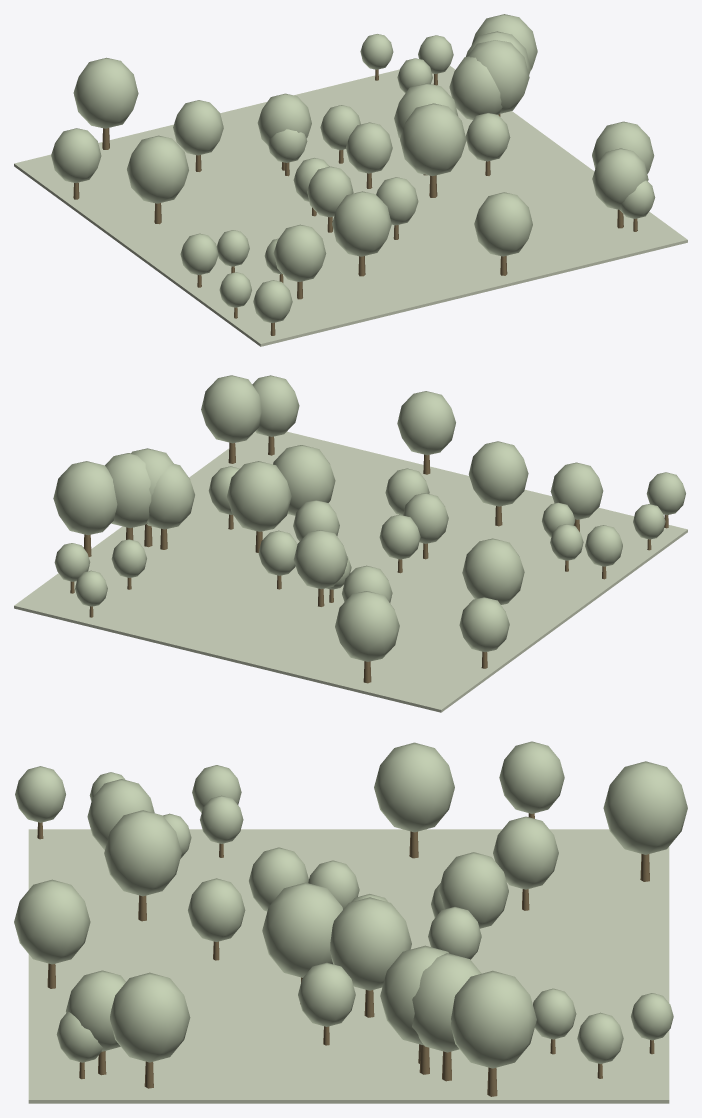
3 views of the same model, one above another, from view 1: azimuth 30°, elevation 25°; view 2: azimuth 150°, elevation 25°; view 3: azimuth 270°, elevation 25° (orthographic). The views are drawn at different scales.
Parts seen in each view (by area): view 1: terrain, lod-near-22, lod-near-15, lod-near-23, lod-near-7, lod-near-12, lod-near-10, lod-near-3, lod-near-1, lod-near-31, lod-near-17, lod-near-24 (+20 smaller); view 2: terrain, lod-near-29, lod-near-15, lod-near-27, lod-near-5, lod-near-23, lod-near-7, lod-near-12, lod-near-22, lod-near-18, lod-near-20, lod-near-1 (+19 smaller); view 3: terrain, lod-near-29, lod-near-15, lod-near-5, lod-near-23, lod-near-22, lod-near-27, lod-near-7, lod-near-12, lod-near-18, lod-near-20, lod-near-17 (+17 smaller).
Boxes of the visible parts, x1,y1,x2,y2 form: terrain: [14, 65, 687, 346]; lod-near-22: [400, 103, 466, 176]; lod-near-15: [73, 57, 138, 128]; lod-near-23: [127, 135, 188, 203]; lod-near-7: [332, 191, 391, 256]; lod-near-12: [474, 192, 532, 256]; lod-near-10: [468, 40, 529, 113]; lod-near-3: [592, 148, 648, 209]; lod-near-1: [449, 56, 502, 119]; lod-near-31: [273, 224, 326, 281]; lod-near-17: [173, 100, 223, 155]; lod-near-24: [51, 128, 101, 182]; terrain: [14, 431, 687, 712]; lod-near-29: [53, 461, 117, 535]; lod-near-15: [335, 591, 399, 661]; lod-near-27: [227, 461, 291, 531]; lod-near-5: [201, 375, 261, 443]; lod-near-23: [462, 538, 524, 604]; lod-near-7: [468, 441, 528, 506]; lod-near-12: [397, 391, 455, 455]; lod-near-22: [273, 445, 335, 515]; lod-near-18: [105, 453, 151, 527]; lod-near-20: [293, 530, 347, 589]; lod-near-1: [147, 464, 194, 529]; terrain: [28, 829, 669, 1103]; lod-near-29: [451, 970, 536, 1068]; lod-near-15: [603, 761, 687, 854]; lod-near-5: [110, 972, 190, 1062]; lod-near-23: [374, 742, 454, 832]; lod-near-22: [262, 882, 342, 977]; lod-near-27: [330, 897, 411, 990]; lod-near-7: [104, 810, 181, 896]; lod-near-12: [14, 879, 90, 964]; lod-near-18: [412, 953, 481, 1052]; lod-near-20: [438, 852, 508, 928]; lod-near-17: [493, 816, 558, 889].
Size of the model in its own units: 34.72 by 7.13 by 33.66.
